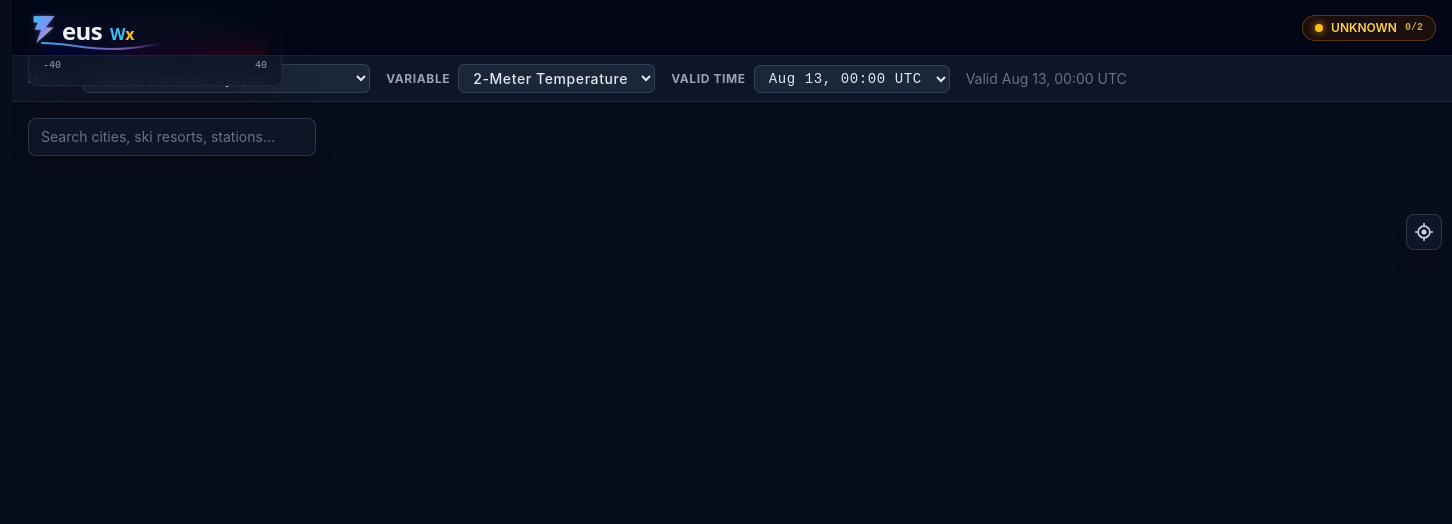
Test: HomePage › clicking Locate Me successfully acquires location and opens forecast panel
What coordinates should you click on to do the following:
click the button named "Locate me"
I would click on:
 (1424, 232)
Its box is x1=1406 y1=214 x2=1442 y2=250.
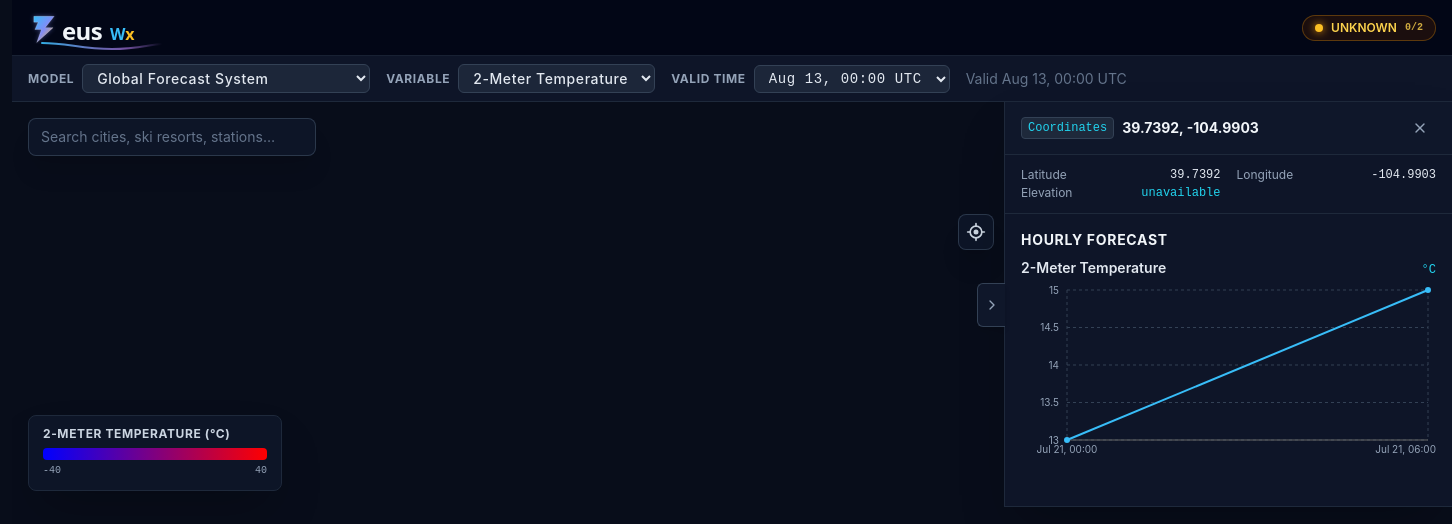
Expected: the element with test id "point-forecast-section" is shown, x1=1005 y1=214 x2=1451 y2=507
Expected: the heading "39.7392, -104.9903" is shown, x1=1122 y1=118 x2=1259 y2=138
